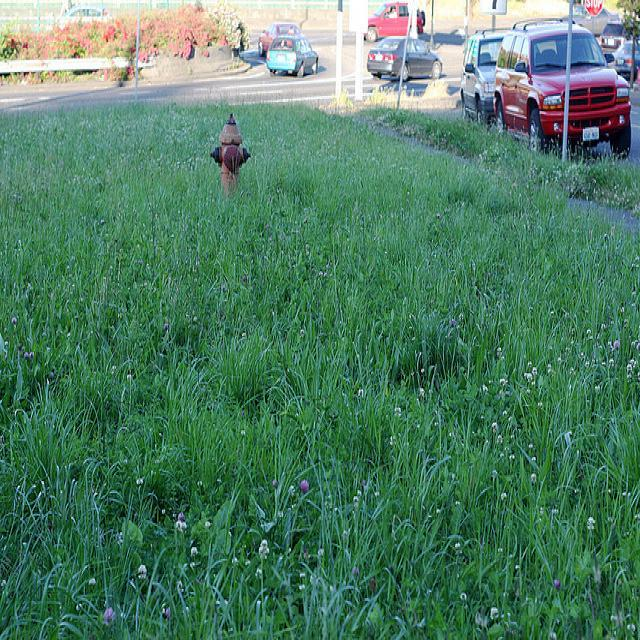fire_hydrant: (209, 112, 249, 194)
